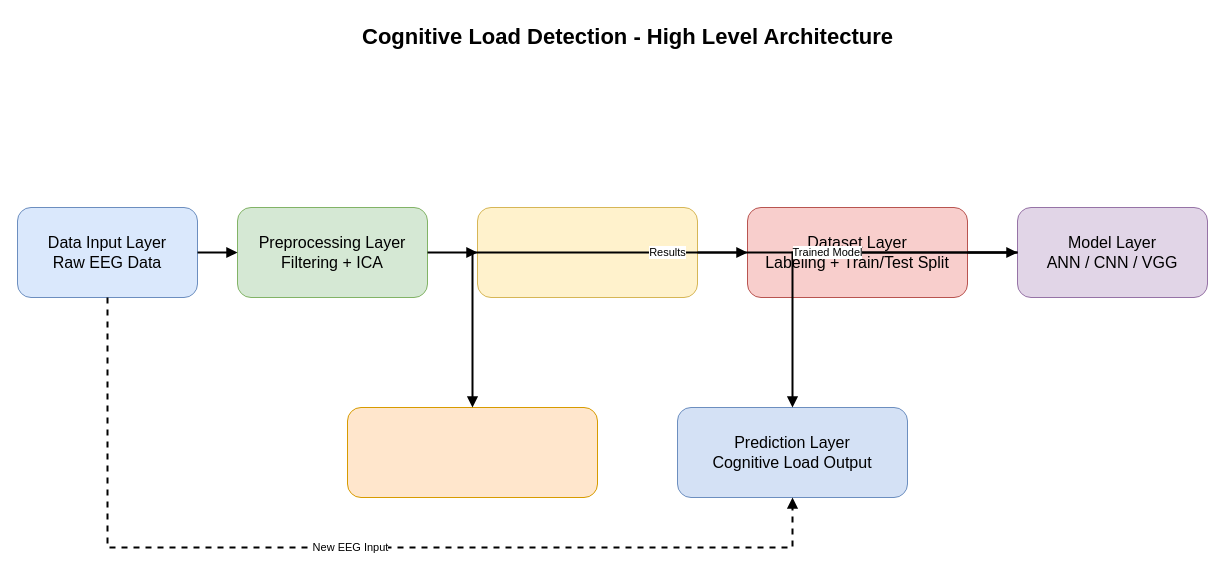
The diagram is 1225 pixels wide and 573 high, and some of its shapes have lost their labels. The shapes that lost their labels are listed below. From the top down, each one's centre as x and y in pixels, then its label:
At [587,252]: "Feature Extraction Layer Windowing + DWT Features".
At [472,452]: "Evaluation Layer Accuracy, AUC, F1, Confusion Matrix".
